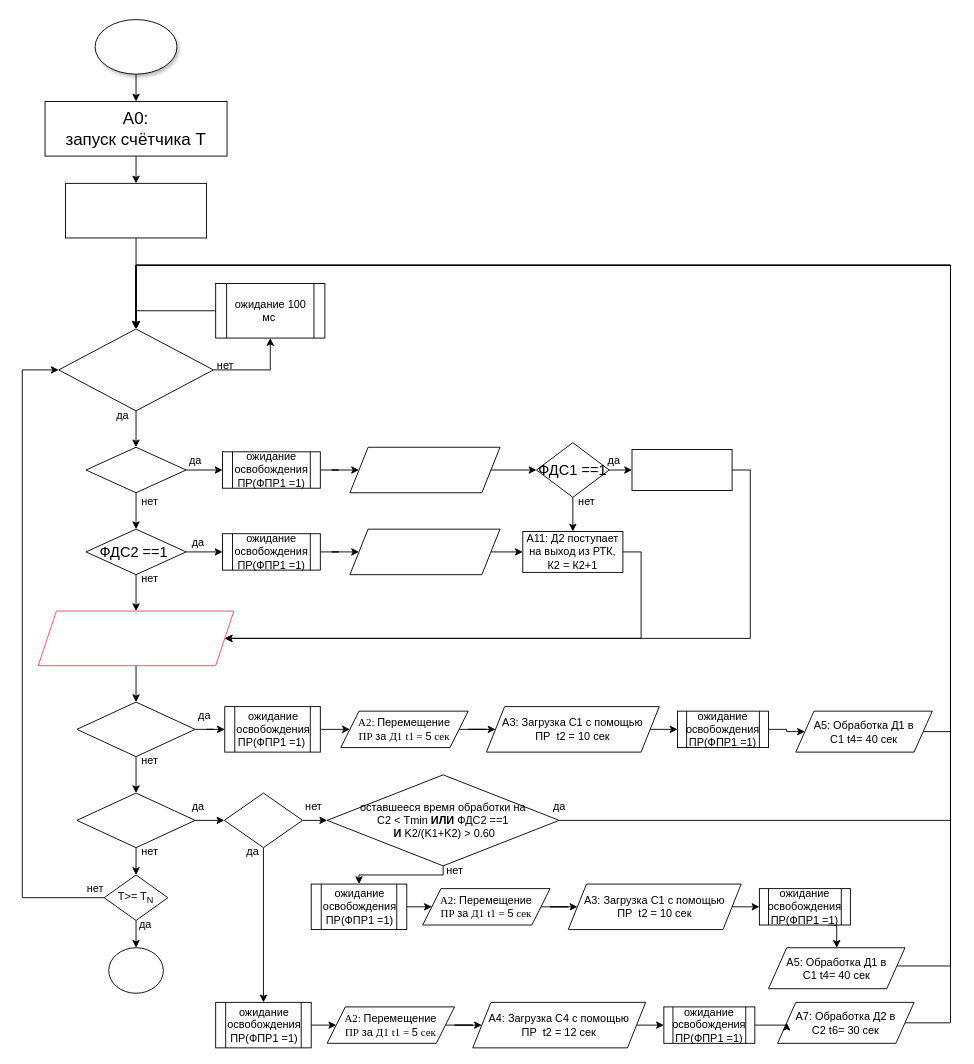
The diagram is 974 pixels wide and 1064 high, and some of its shapes have lost their labels. The shapes that lost their labels are listed below. From the top down, each one's centre as x and y in pixels, then its label:
(x=136, y=48): Старт
(x=136, y=210): ФПР = 1, ФС1 = 1, ФС2 = 1, ФДС1 = 0, ФДС2 = 0
(x=135, y=369): ФС1 ==1 или ФС2 ==1
(x=135, y=469): ФДС1 !=0
(x=424, y=469): А8: Разгрузка С1 помощью ПР t 7= 8 сек
(x=681, y=469): А10: Д1 поступает на выход из РТК, К1 = К1+1
(x=424, y=551): А9: Разгрузка С2 помощью ПР t 7= 8 сек
(x=135, y=638): А1: определение типа детали (Д1 или Д2), поступившего в РТК
(x=135, y=729): Е1: поступила Д1
(x=135, y=820): Е2: поступила Д2
(x=263, y=820): ФС2 ==1
(x=135, y=970): Конец
